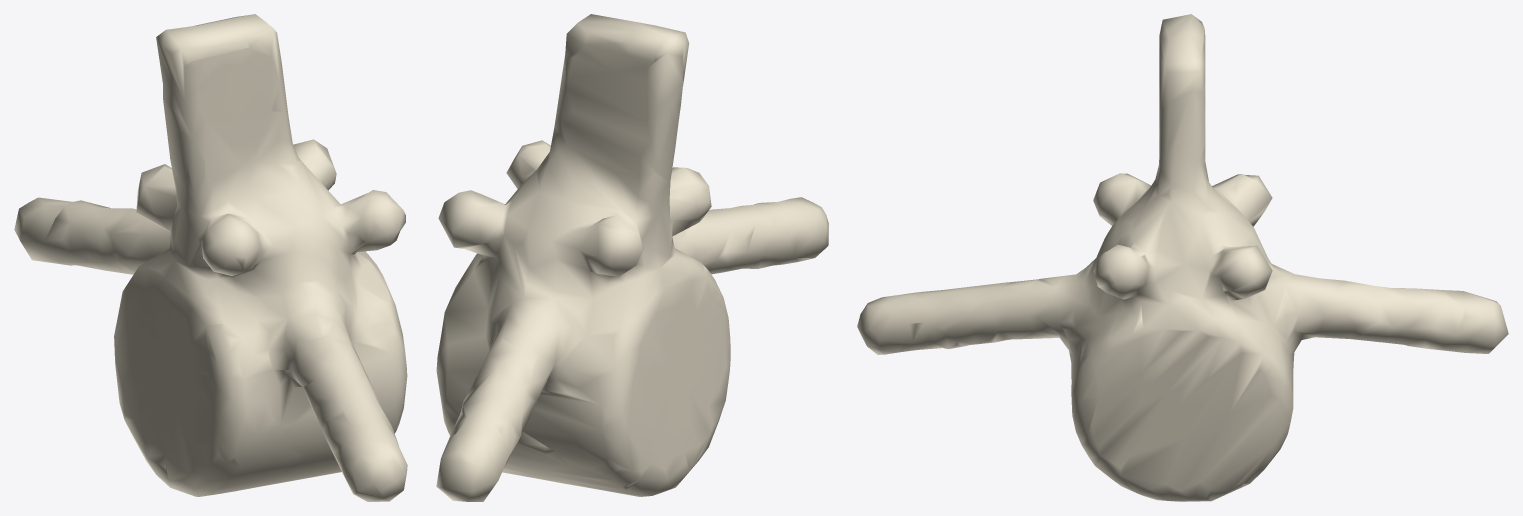
The model's file is lumbar_3.glb.
3 renders of one model, left to right at view 1: azimuth 30°, elevation 25°; view 2: azimuth 150°, elevation 25°; view 3: azimuth 270°, elevation 25°, orthographic. The views are drawn at different scales.
Parts seen in each view (by area): view 1: geometry_0; view 2: geometry_0; view 3: geometry_0.
Part boxes in pixels (x1=…): geometry_0: x1=14, y1=14, x2=407, y2=501; geometry_0: x1=436, y1=14, x2=828, y2=501; geometry_0: x1=857, y1=14, x2=1508, y2=501.
Size of the model in its own units: 0.1127 by 0.2418 by 0.3412.
